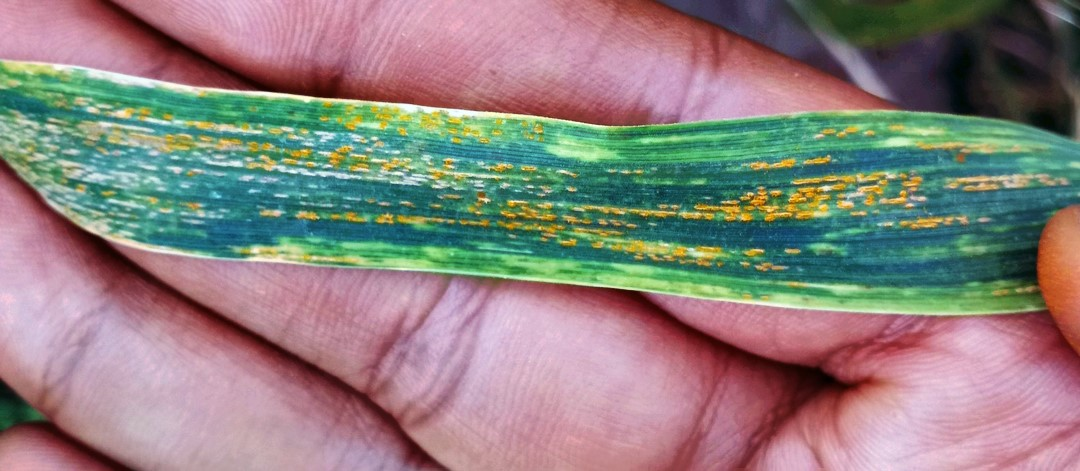Leaf Rust: (59, 87, 995, 294)
